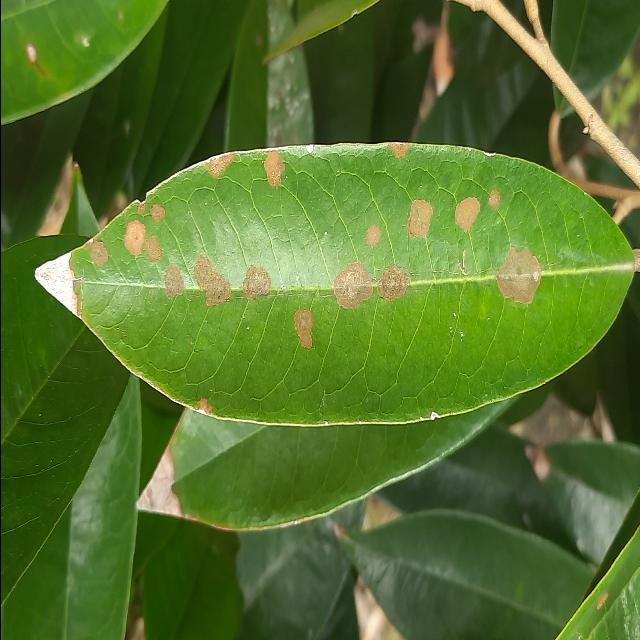Algal Leaf Spot: (25, 137, 640, 438)
